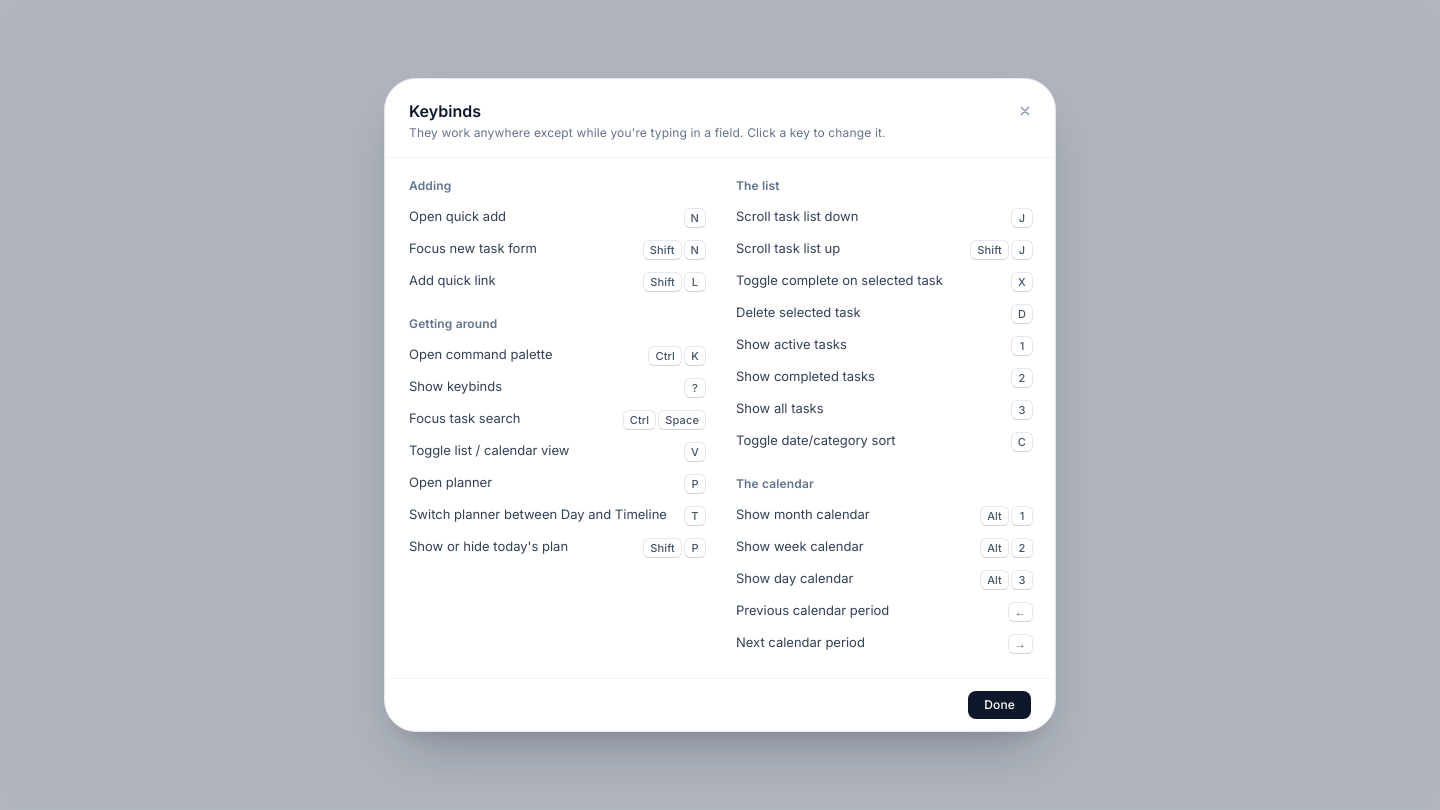
Test: ShortcutsSheet › changes a key in place: click it, press the new one
Click the button named "Open quick add: N. Change" at (695, 216), box [682, 202, 708, 230]
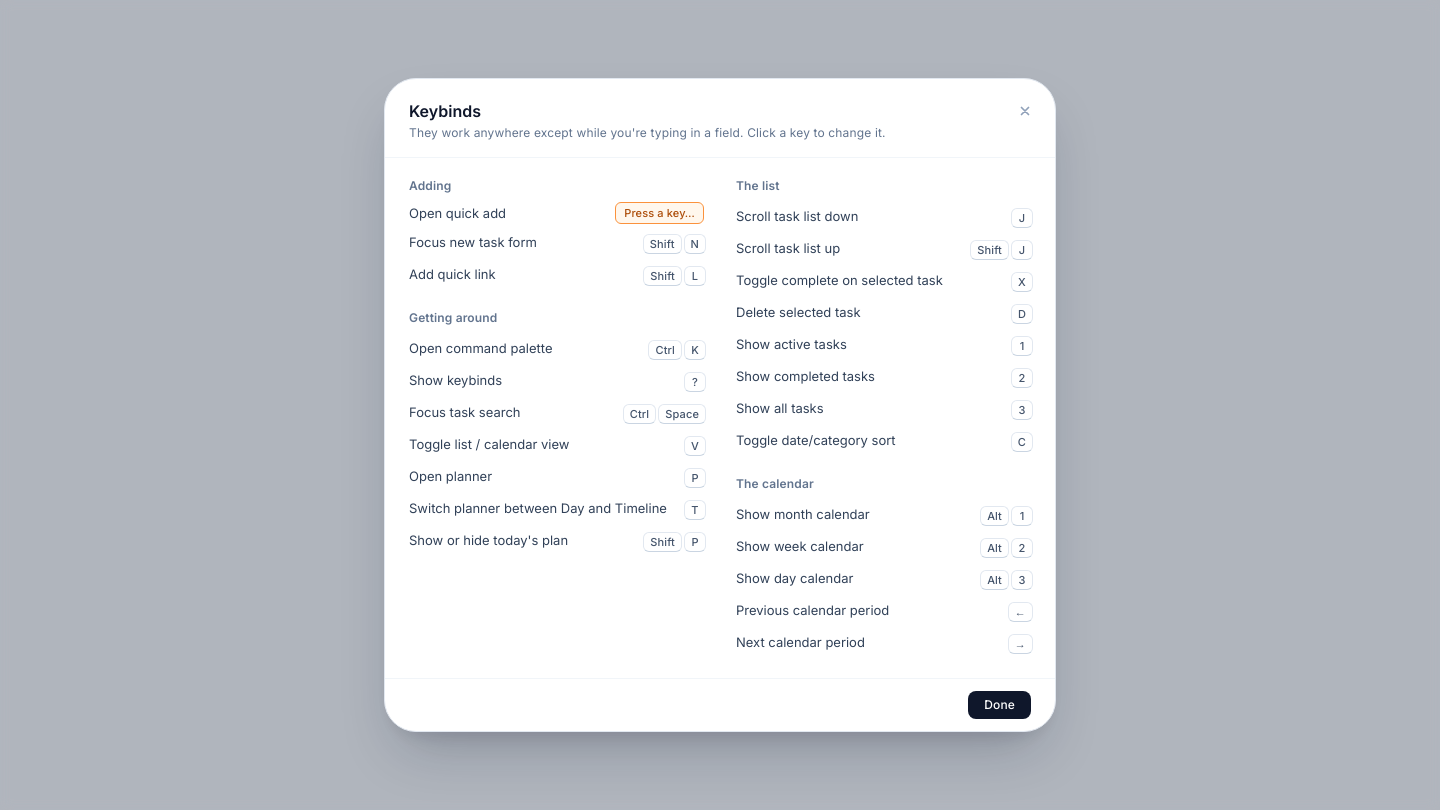
Press q in the button with aria-label "Press the new key for Open quick add", box [615, 202, 704, 224]
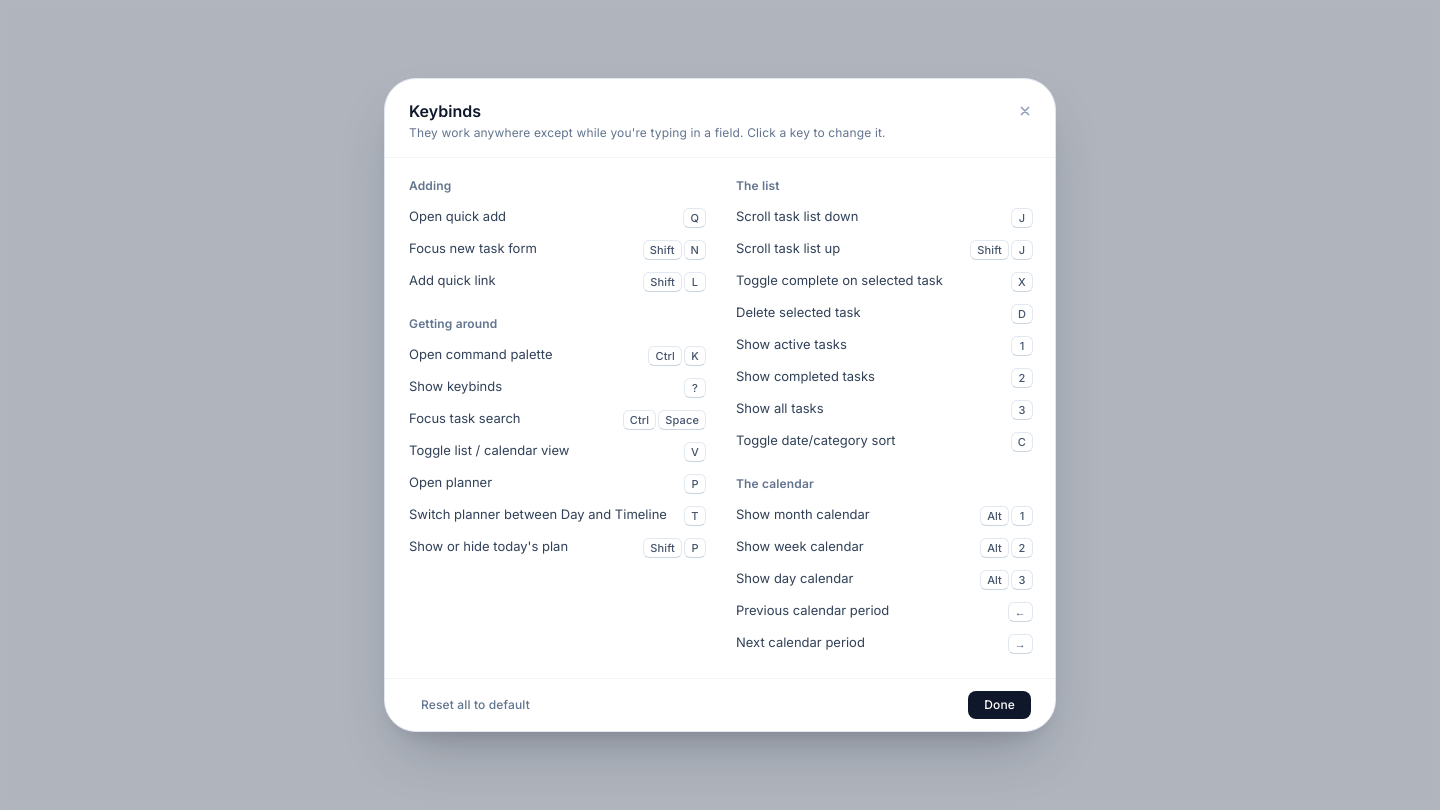
Check: the button named "Open quick add: Q. Change" is shown, box [681, 202, 708, 230]
Note: Changed from the default, so it can go back
Click the button "Reset all to default" at (476, 705), box [409, 691, 542, 719]
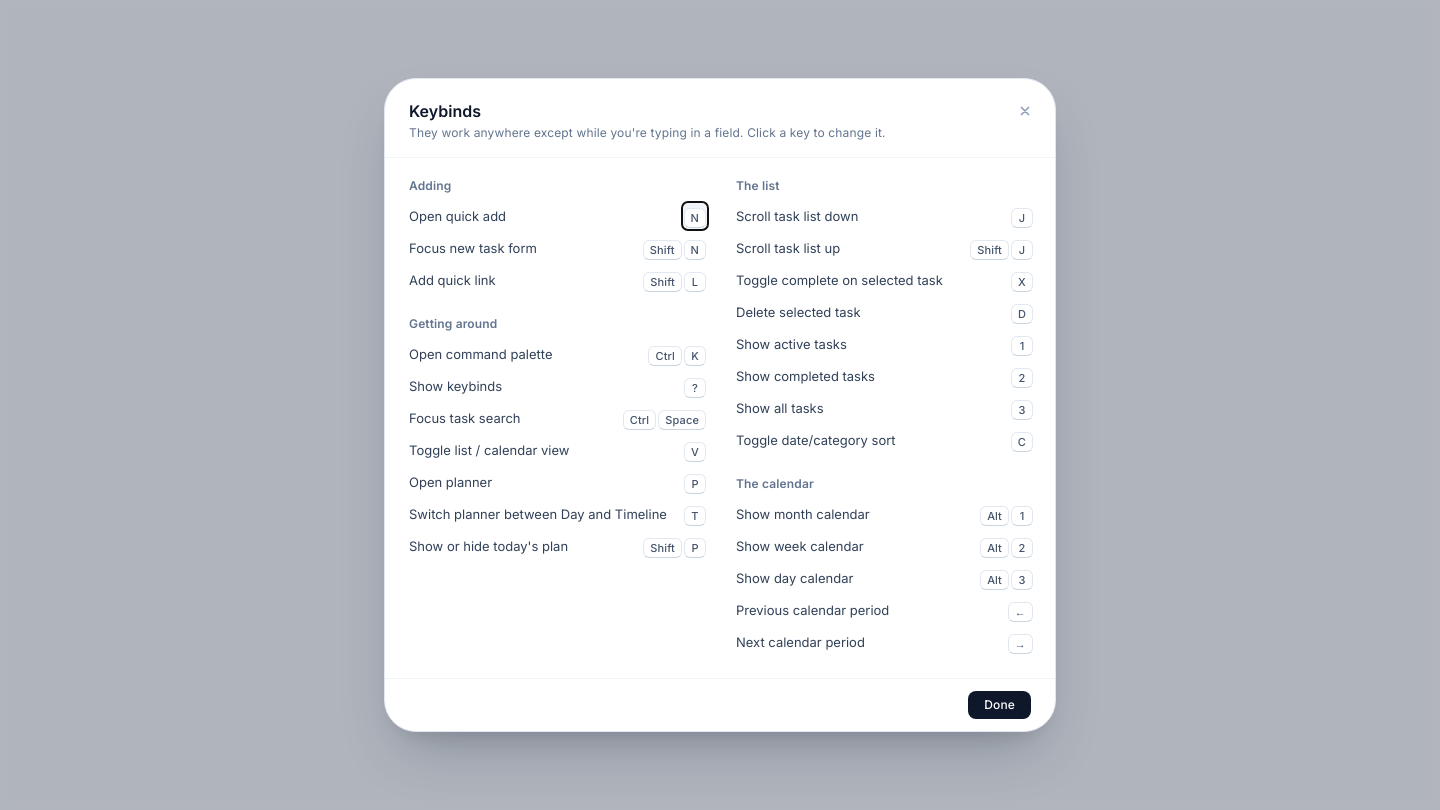
Check: the button named "Open quick add: N. Change" is shown, box [682, 202, 708, 230]
Check: the button "Reset all to default" is gone
